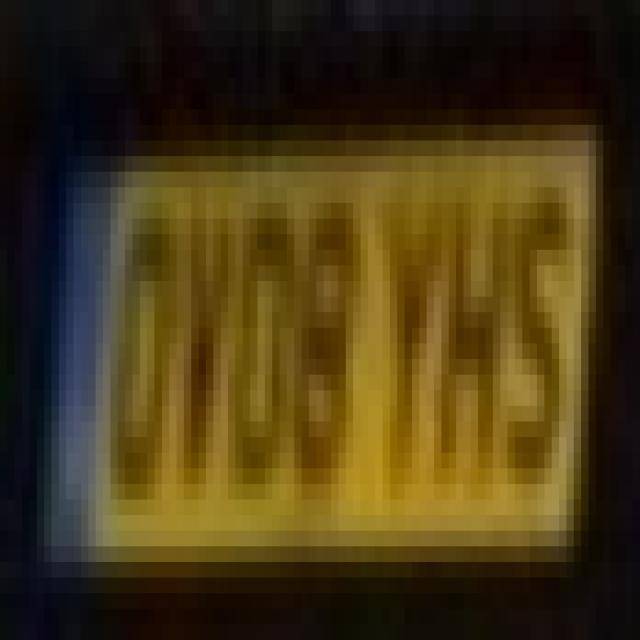licenseplate: (30, 73, 611, 601)
